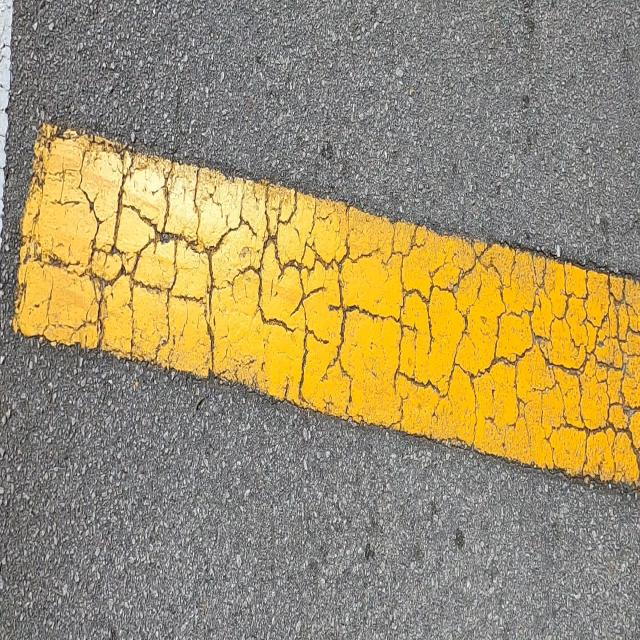Retak-Buaya: (25, 130, 640, 496)
